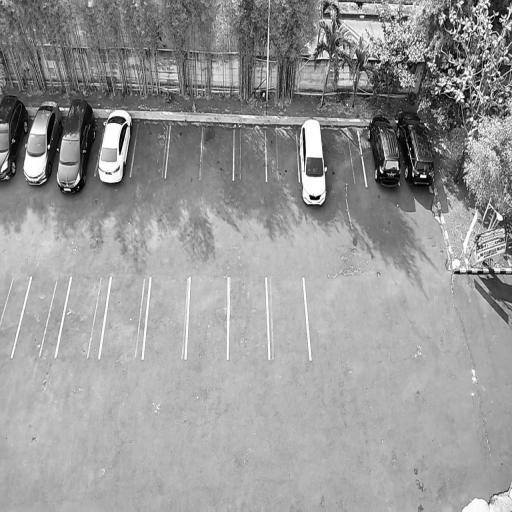Car: (48, 90, 100, 198), (17, 90, 69, 187), (394, 100, 440, 189), (93, 98, 138, 188), (0, 86, 33, 197), (363, 110, 406, 191), (296, 116, 330, 209)
Space Available: (12, 276, 71, 358), (55, 275, 110, 358), (100, 275, 151, 359), (143, 276, 189, 359), (267, 277, 310, 360), (186, 276, 228, 359), (228, 277, 269, 358), (0, 275, 31, 356), (131, 121, 170, 177), (165, 124, 203, 178), (200, 125, 234, 181), (234, 127, 267, 181), (266, 131, 299, 181)
